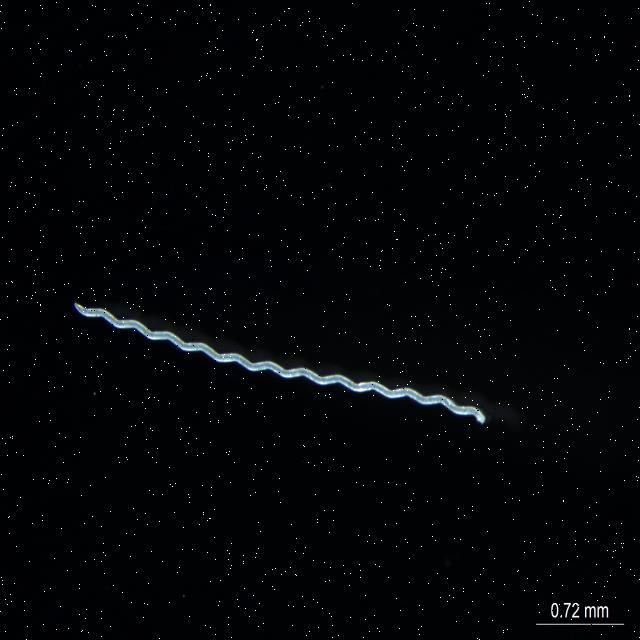Fibre: (68, 294, 490, 434)
